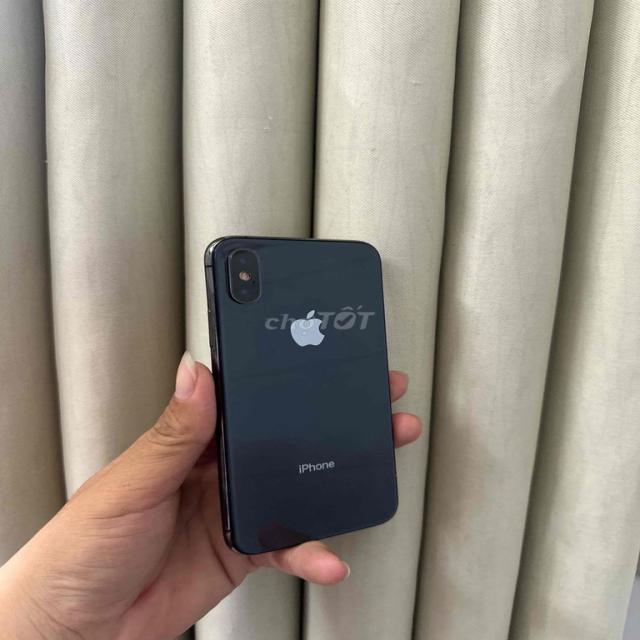gen_x_xs: (205, 236, 396, 554)
